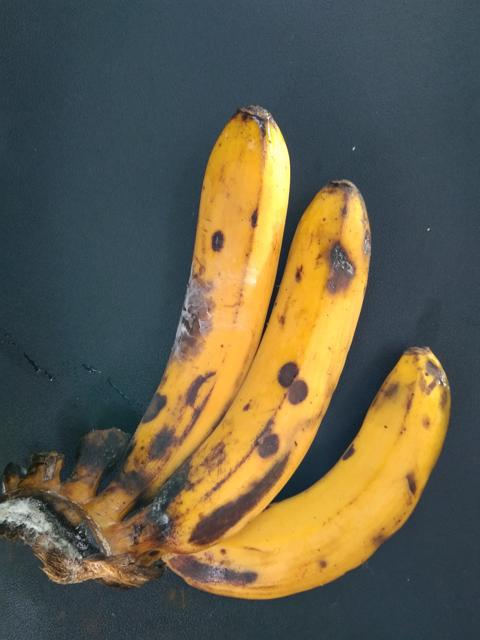overripe: (126, 174, 379, 555), (176, 333, 477, 606), (102, 90, 300, 490)
rotten: (146, 244, 222, 398)
